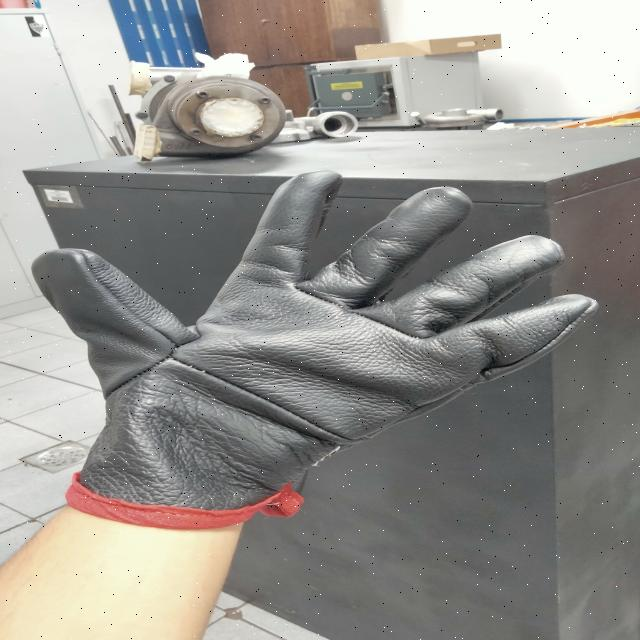Gloves: (35, 166, 595, 516)
